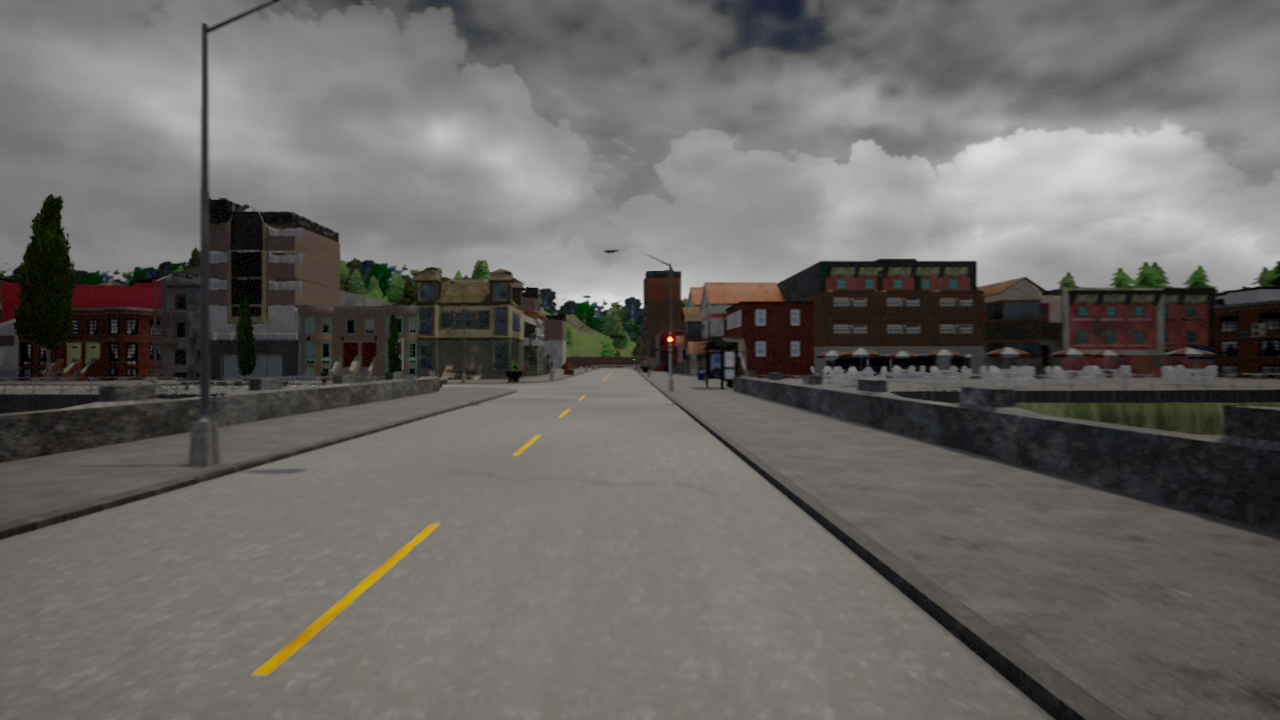red: (667, 335, 674, 353)
